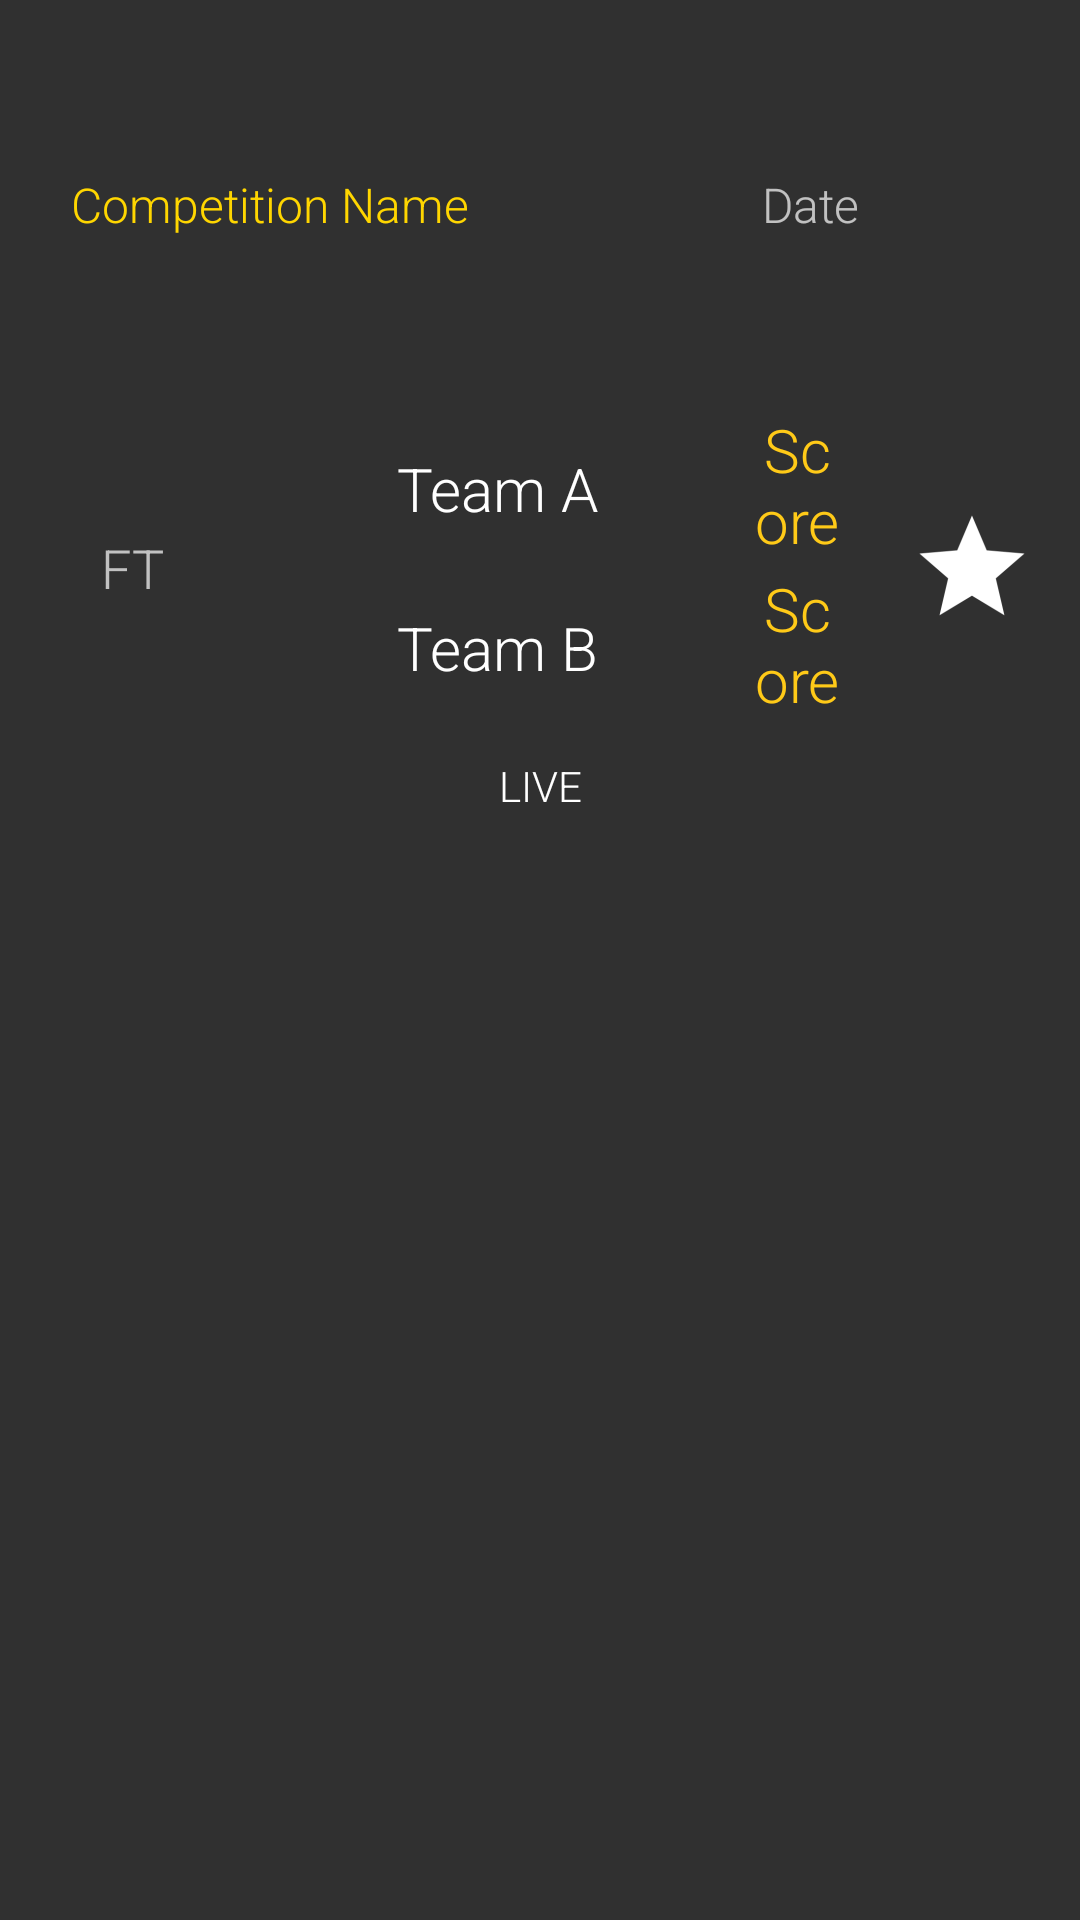

Icons on this 1080w x 1920h Android screen, each with its box as (x1, y1, x2, y2):
starred: (919, 516, 1024, 615)
